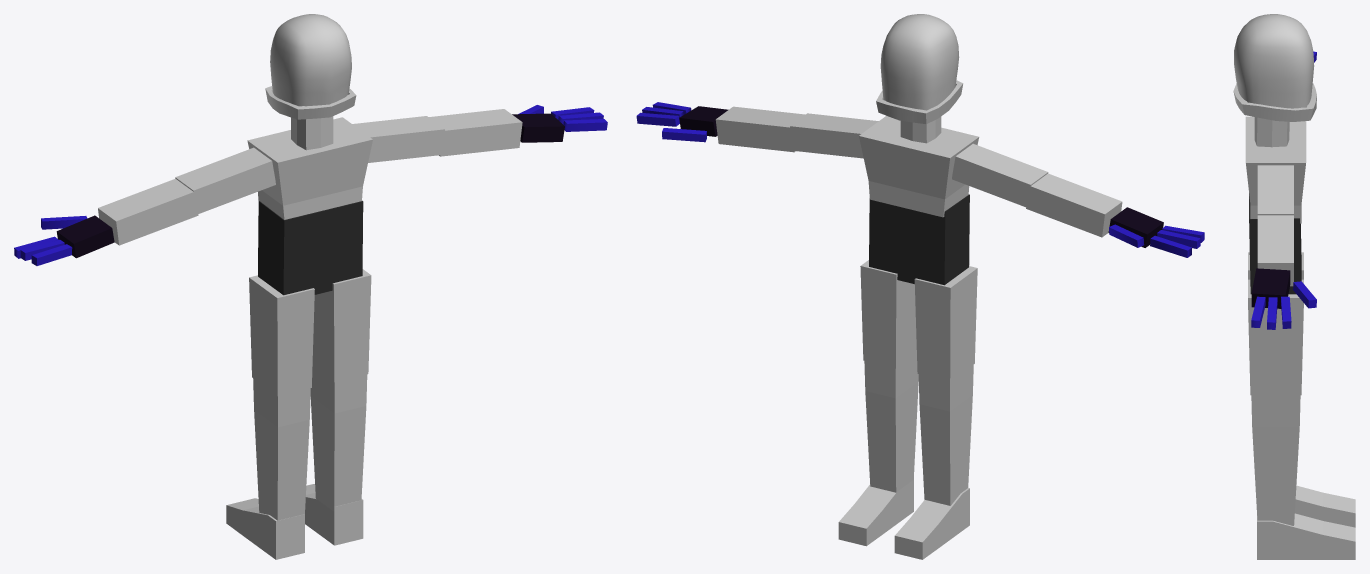
File: basic_cyborg.obj
The picture shows the model from 3 angles, left to right: view 1: azimuth 30°, elevation 25°; view 2: azimuth 150°, elevation 25°; view 3: azimuth 270°, elevation 25°; orthographic projection. The views are drawn at different scales.
Visible parts, largest first — view 1: Cube, upperbody, lowerleg.L, lowerleg.R, leg.R, head.001, leg.L, lowerarm.R, arm.R, lowerarm.L, arm.L, feet.R (+7 smaller); view 2: upperbody, Cube, head.001, lowerleg.L, lowerleg.R, leg.R, leg.L, lowerarm.R, arm.R, feet.R, feet.L, lowerarm.L (+6 smaller); view 3: head.001, lowerleg.L, leg.L, feet.L, upperbody, lowerarm.L, arm.L, feet.R, head, hand.L, Cube, neck (+3 smaller).
Part boxes in pixels (<box>): Cube: <box>258,200,363,295</box>; upperbody: <box>247,117,372,219</box>; lowerleg.L: <box>310,366,367,511</box>; lowerleg.R: <box>253,378,310,520</box>; leg.R: <box>249,275,314,395</box>; head.001: <box>270,14,351,106</box>; leg.L: <box>312,269,371,382</box>; lowerarm.R: <box>98,178,198,245</box>; arm.R: <box>175,147,275,214</box>; lowerarm.L: <box>429,109,522,156</box>; arm.L: <box>352,116,444,162</box>; feet.R: <box>226,498,304,559</box>; upperbody: <box>859,116,979,217</box>; Cube: <box>869,194,969,285</box>; head.001: <box>880,14,959,110</box>; lowerleg.L: <box>864,353,918,492</box>; lowerleg.R: <box>918,365,973,505</box>; leg.R: <box>914,266,977,381</box>; leg.L: <box>860,260,916,368</box>; lowerarm.R: <box>1026,173,1122,237</box>; arm.R: <box>952,143,1048,207</box>; feet.R: <box>894,488,969,559</box>; feet.L: <box>838,479,913,546</box>; lowerarm.L: <box>715,106,805,152</box>; head.001: <box>1234,14,1314,108</box>; lowerleg.L: <box>1251,395,1300,525</box>; leg.L: <box>1248,279,1303,395</box>; feet.L: <box>1257,513,1355,559</box>; upperbody: <box>1245,116,1306,223</box>; lowerarm.L: <box>1257,215,1293,286</box>; arm.L: <box>1257,165,1293,215</box>; feet.R: <box>1295,485,1355,527</box>; head: <box>1233,83,1316,121</box>; hand.L: <box>1251,268,1290,308</box>; Cube: <box>1249,193,1301,294</box>; neck: <box>1254,117,1289,147</box>.
Size of the model in its own units: 10.73 by 9.29 by 1.98.
